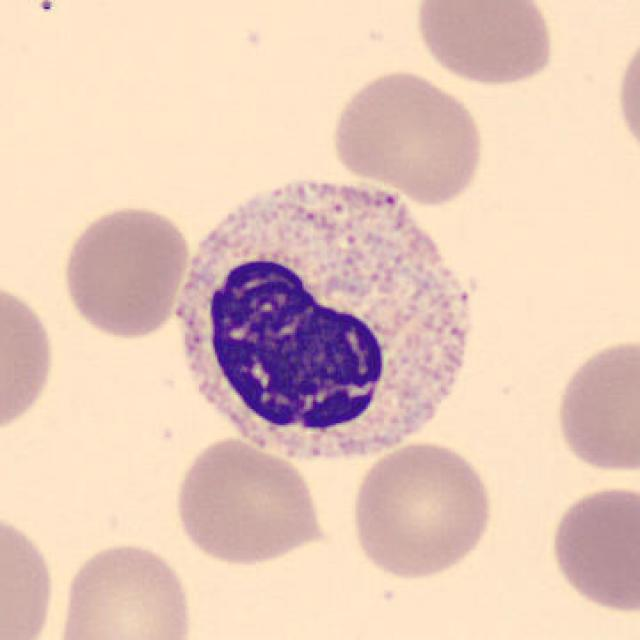Neutrophil: (160, 164, 487, 481)
RBC: (327, 65, 487, 205), (347, 435, 498, 582), (169, 436, 329, 568), (57, 201, 192, 340), (51, 537, 197, 640), (550, 331, 638, 478), (411, 0, 558, 88), (546, 480, 638, 617), (0, 275, 59, 441), (0, 508, 59, 640), (611, 22, 640, 167)
